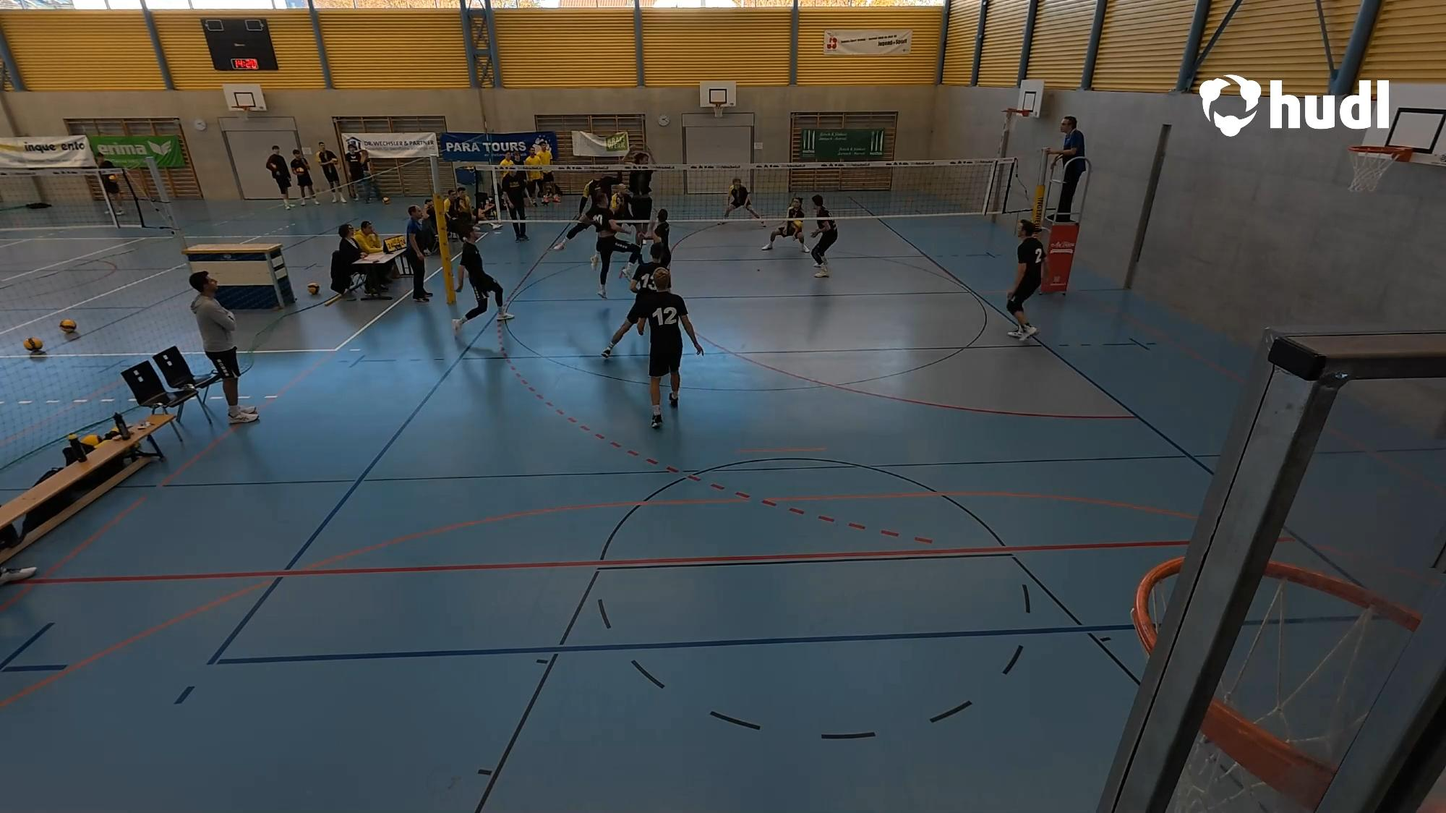Dig: (758, 193, 809, 260)
Player: (640, 276, 704, 427), (554, 157, 623, 260), (998, 208, 1048, 346), (604, 252, 664, 359), (455, 232, 510, 325), (594, 213, 640, 302), (627, 136, 655, 255), (808, 195, 842, 280), (645, 200, 674, 275), (723, 174, 753, 231), (607, 177, 632, 232)
ball: (792, 219, 806, 236)
